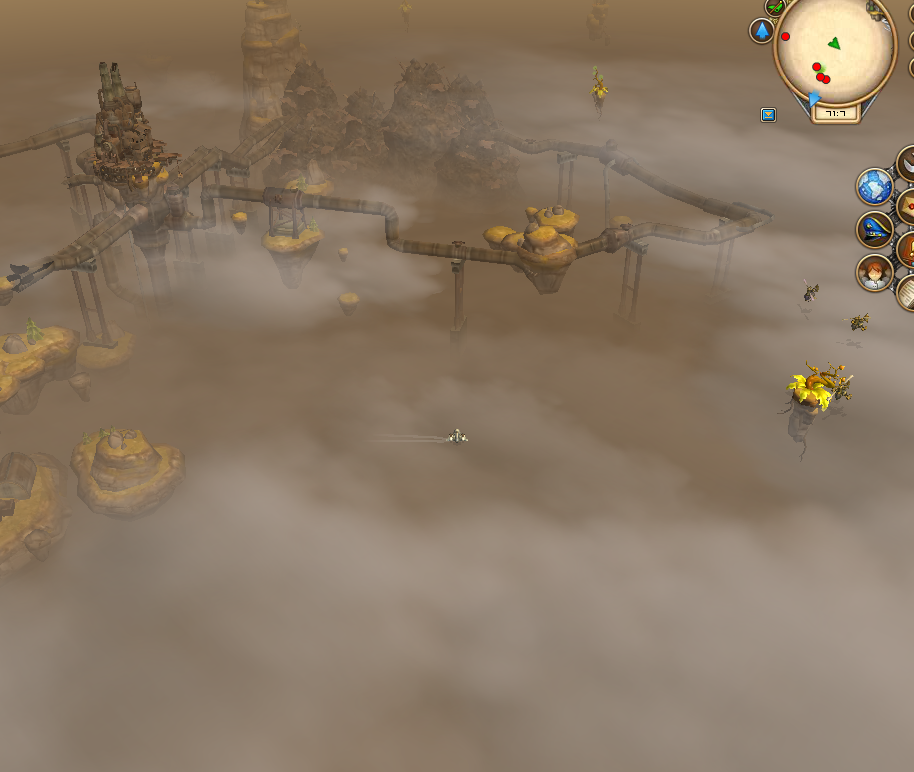dandelion-empty: (785, 353, 842, 451)
dandelion-full: (583, 61, 612, 114)
